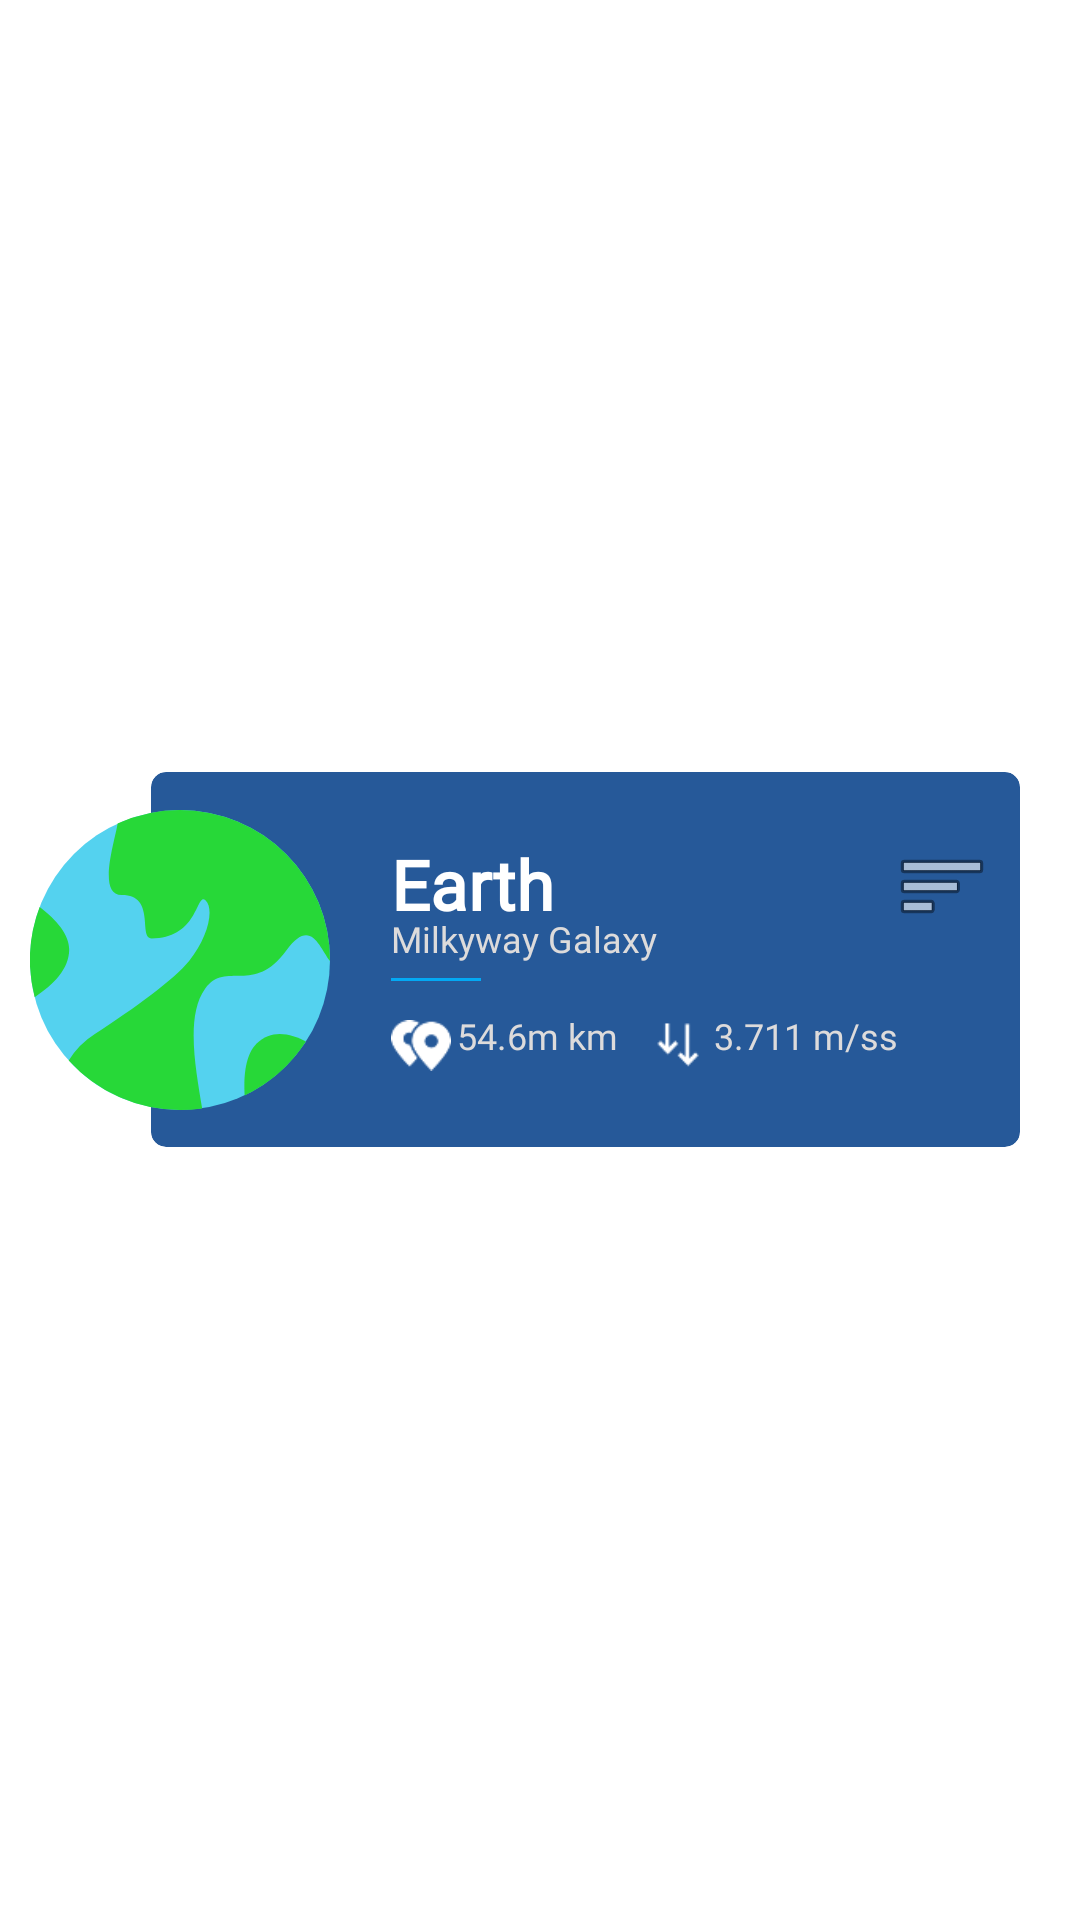

Locate icon controls on the screen. Image size 1080w x 1920h, boxes as (x1=x1, y1=y1, x2=x2, y2=y2).
distance: (x1=391, y1=1020, x2=451, y2=1071)
gravity: (x1=657, y1=1023, x2=699, y2=1066)
sort by size: (x1=901, y1=860, x2=983, y2=913)
